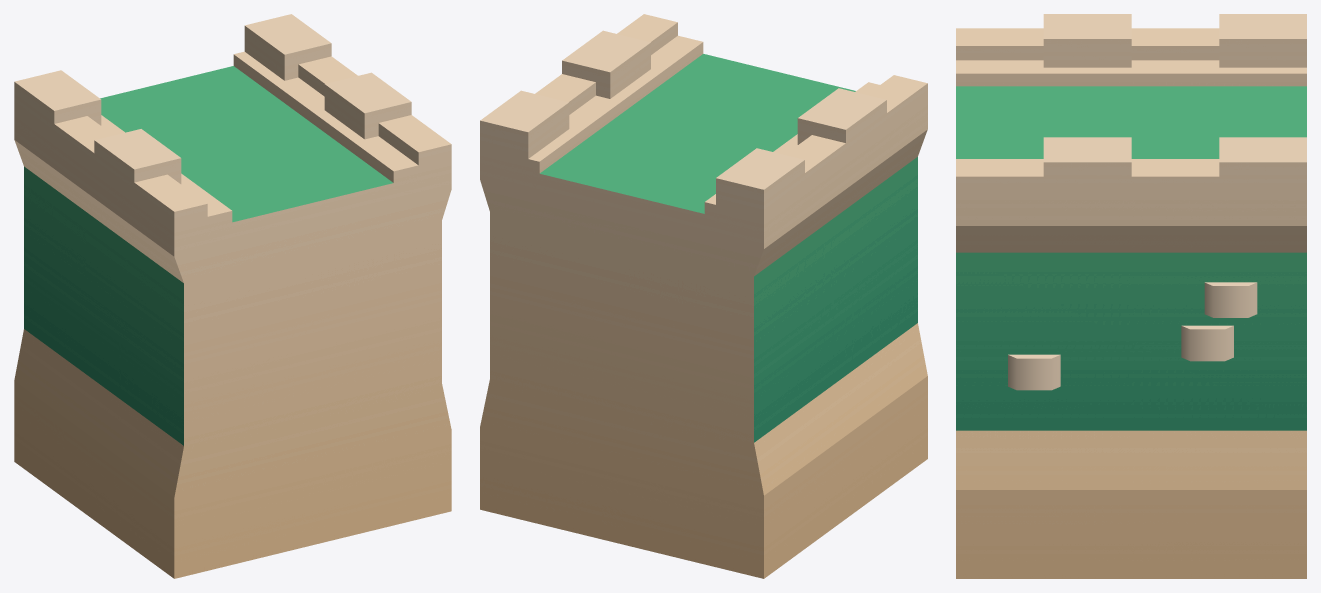
Rendered from wall.glb.
3 renders of one model, left to right at view 1: azimuth 30°, elevation 25°; view 2: azimuth 150°, elevation 25°; view 3: azimuth 270°, elevation 25°, orthographic. The views are drawn at different scales.
Parts seen in each view (by area): view 1: wall; view 2: wall; view 3: wall.
Boxes of the visible parts, bbox=[...] form: wall: bbox=[14, 14, 451, 578]; wall: bbox=[480, 14, 927, 578]; wall: bbox=[956, 14, 1306, 578].
Bounding box in the file's own units: 1 × 1.31 × 1.
